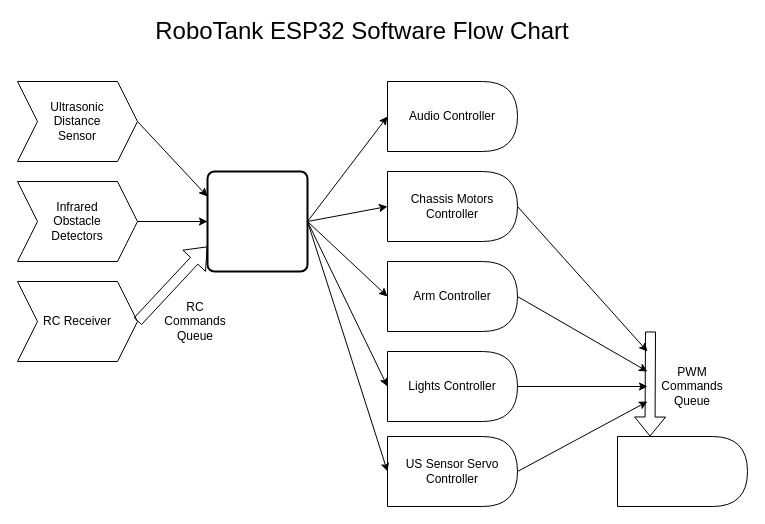
This 765x524 diagram has some shape labels left out. The shapes that lost their labels are listed below. From the top down, each one's box as (x1, y1, x2, y2) in pixels, then its label:
(206, 170, 308, 272): AI Module
(616, 436, 748, 506): PWM Board PCA9685
